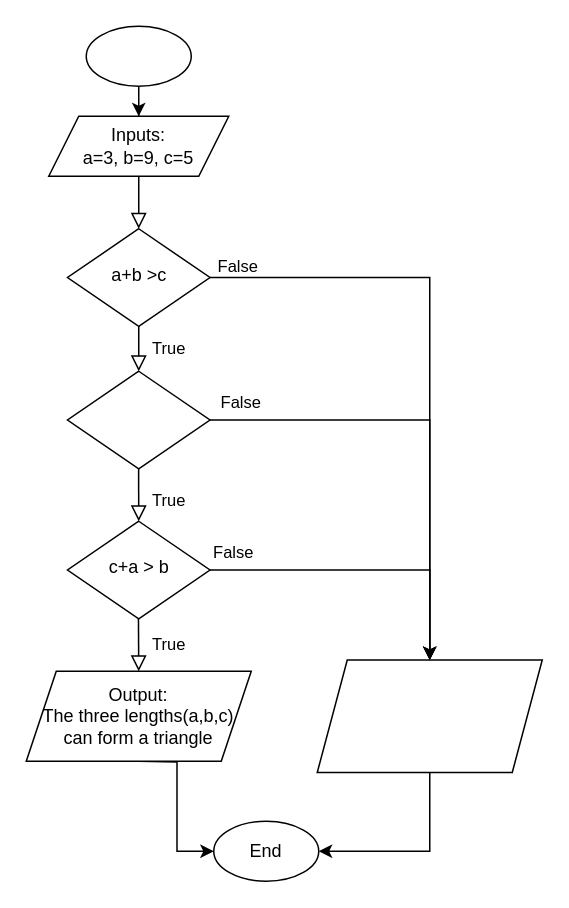
Some shapes in this 569 by 908 pixel diagram are drawn without their labels. Each missing label, with the centre of its shape:
"b+c > a" goes at (138,419).
"Output: The three lengths(a,b,c) cannot form a triangle" goes at (429,715).
"Start" goes at (138,55).
